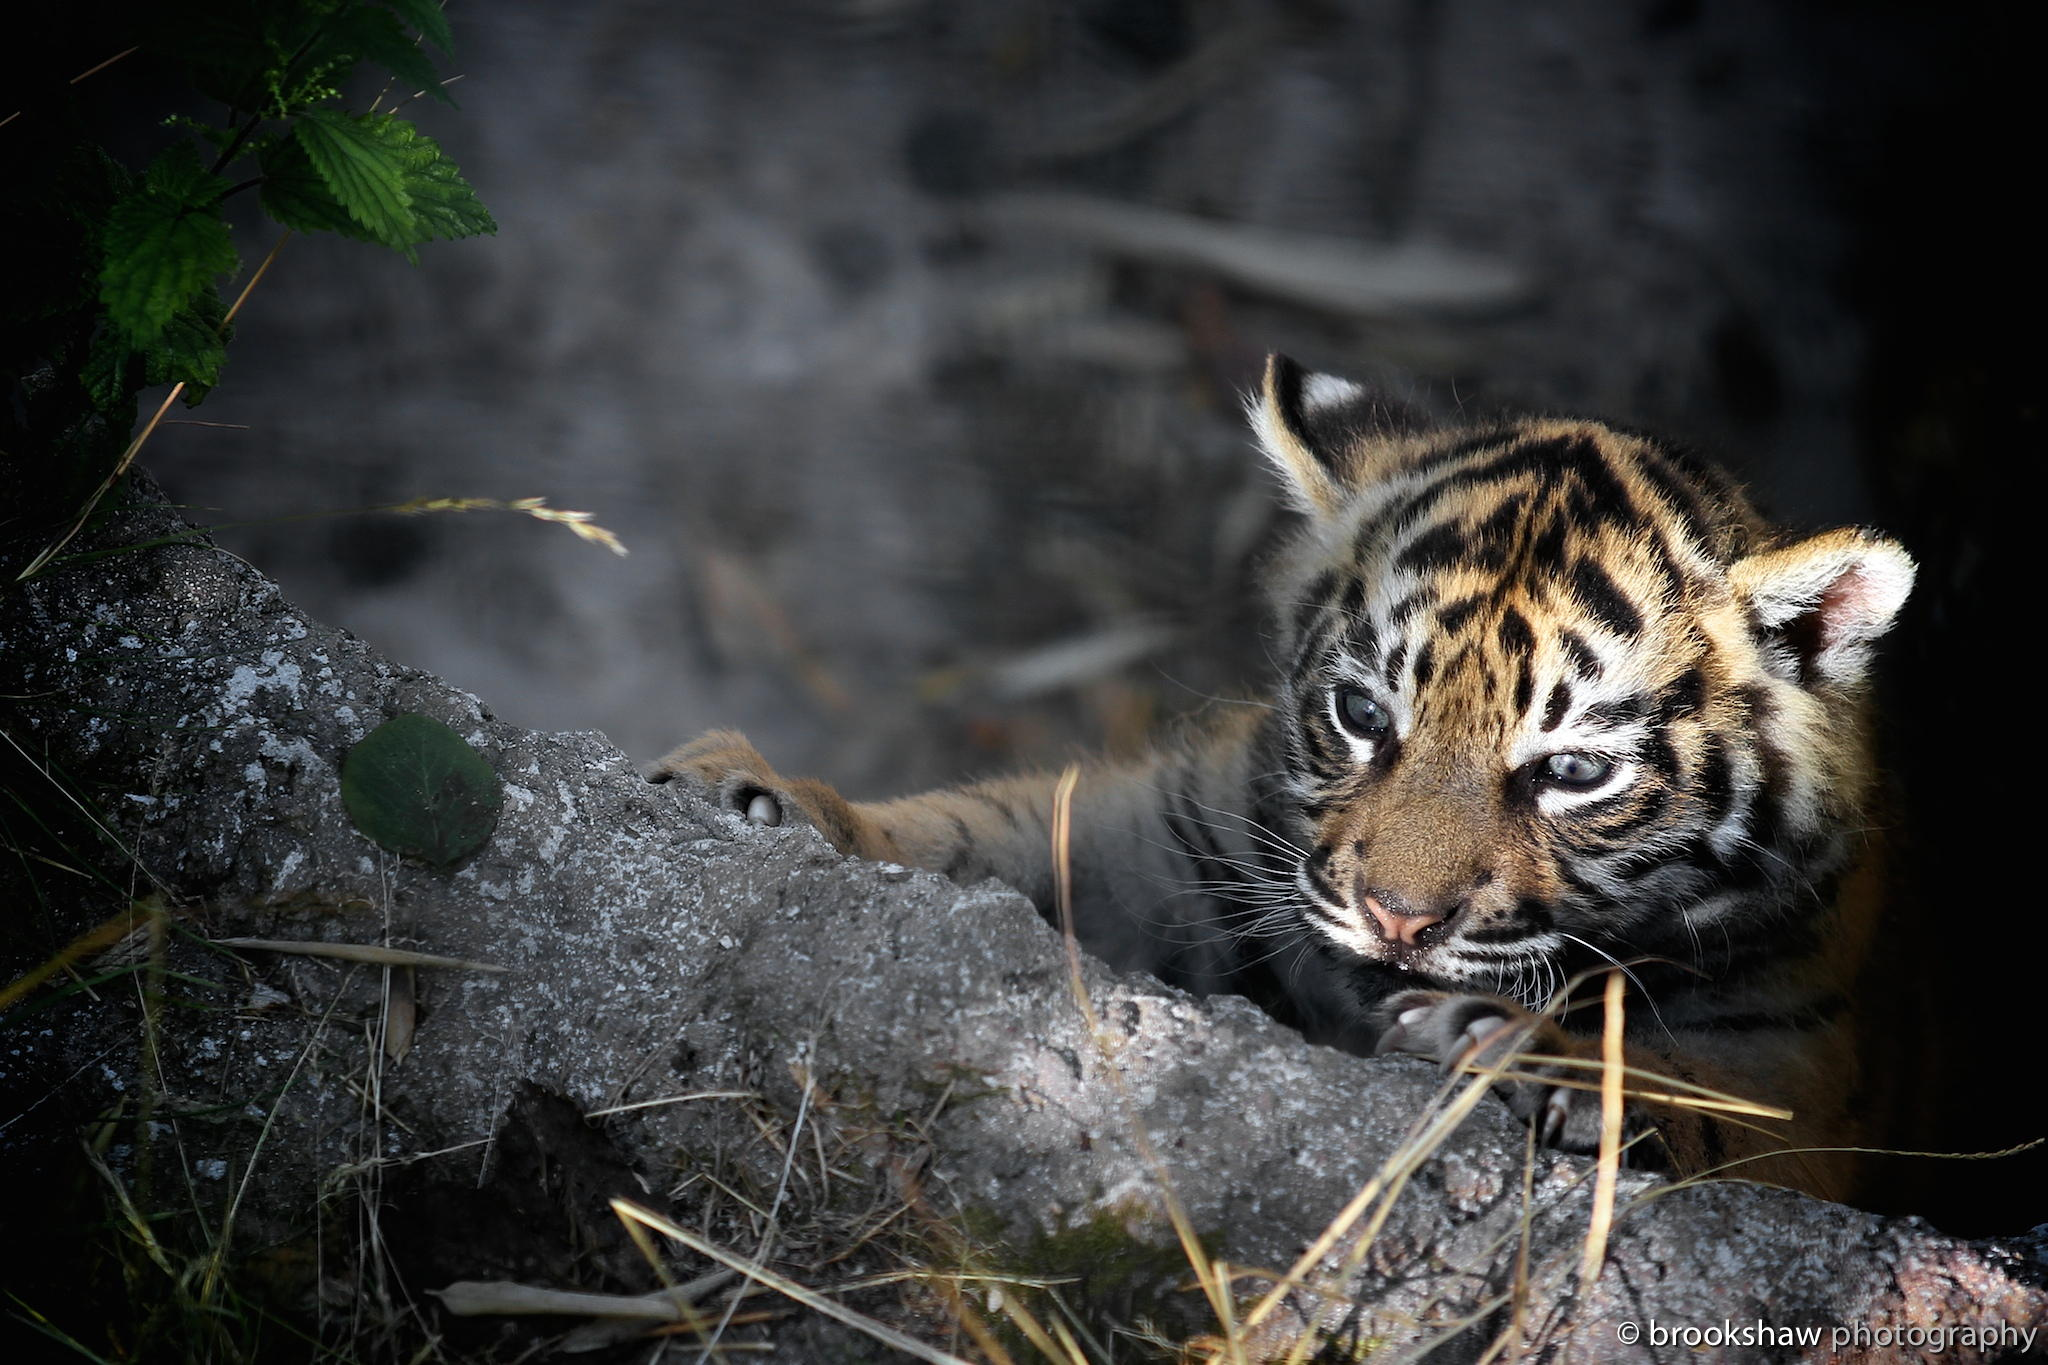tiger: (1080, 326, 1917, 1161)
